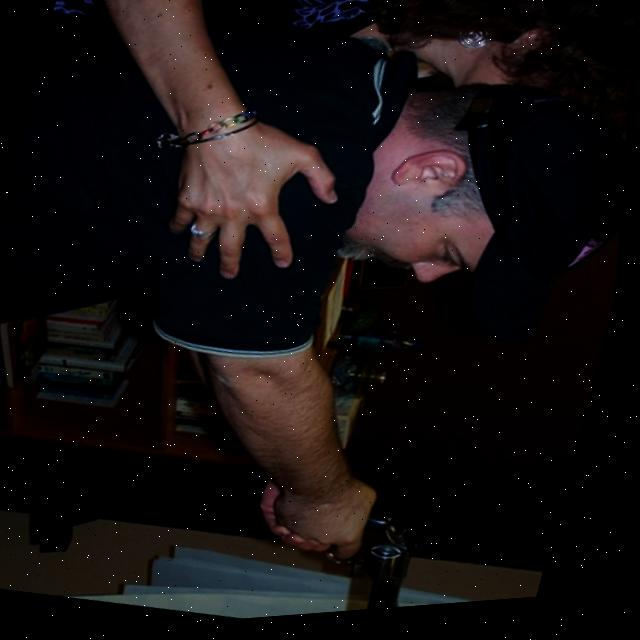pistol: (315, 509, 439, 619)
